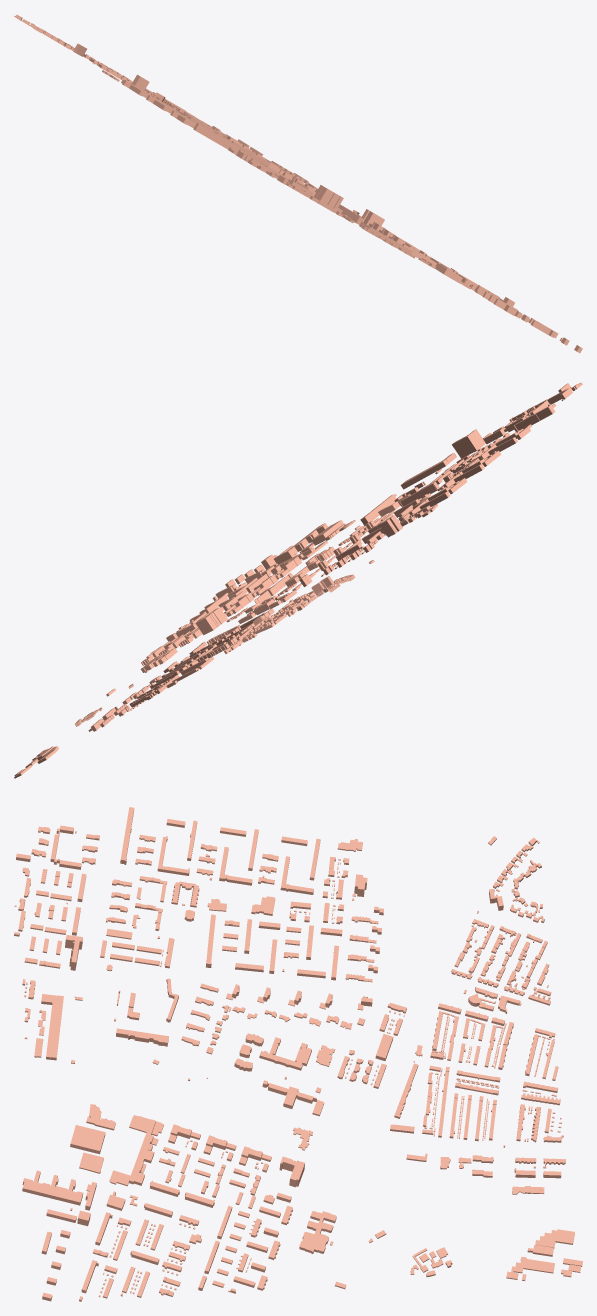
The picture shows the model from 3 angles, top to bottom: view 1: azimuth 30°, elevation 25°; view 2: azimuth 150°, elevation 25°; view 3: azimuth 270°, elevation 25°; orthographic projection. The views are drawn at different scales.
Bounding box in the file's own units: 1000 × 782 × 1290.
